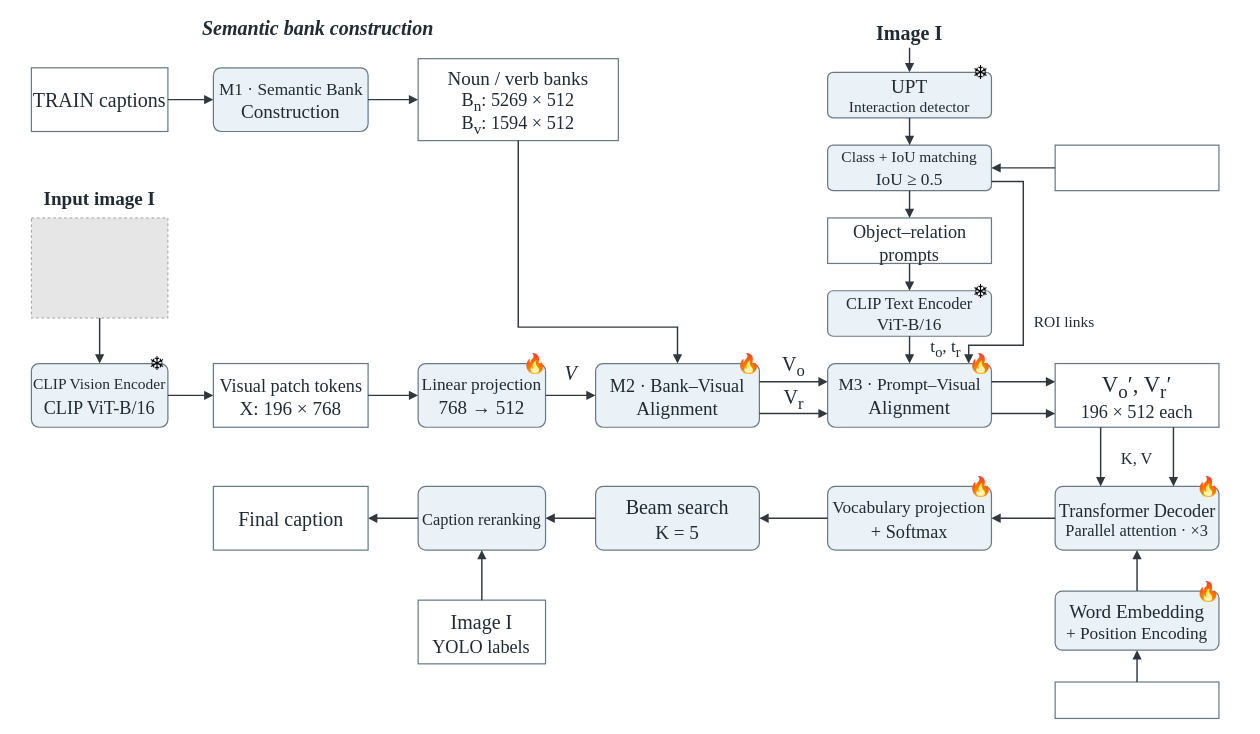
Image size: 1260x734. Some labels were removed from this diagram. Grey dashed boxes stand in for pictures. Here are the shapes that lost their labels. From the top down, the centre of each, then its label:
At [1136,167]: "YOLO boxes B".
At [1136,700]: "Caption prefix".
